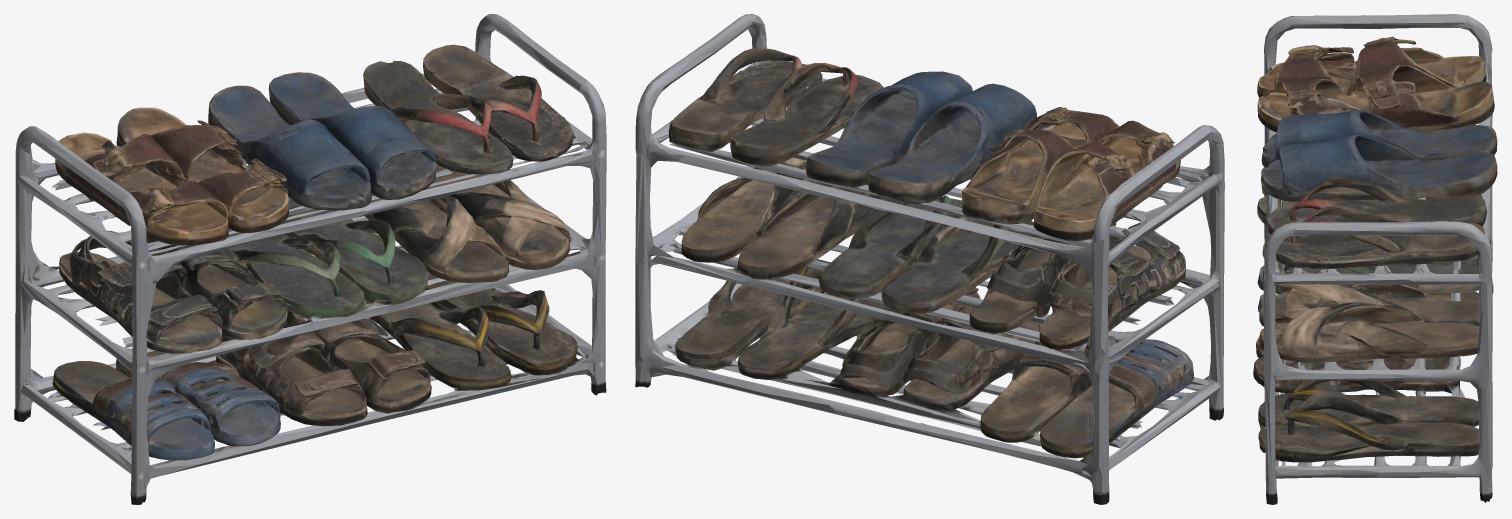
Rendered from w4shoerack.glb.
3 views of the same model, side by side, from view 1: azimuth 30°, elevation 25°; view 2: azimuth 150°, elevation 25°; view 3: azimuth 270°, elevation 25° (orthographic). The views are drawn at different scales.
Visible parts, largest first — view 1: output_unwrapped; view 2: output_unwrapped; view 3: output_unwrapped.
Part boxes in pixels (x1,y1,x2,y2): output_unwrapped: [14, 14, 606, 504]; output_unwrapped: [635, 14, 1224, 504]; output_unwrapped: [1253, 14, 1497, 504].
Size of the model in its own units: 0.8 by 0.4883 by 0.3856.
Materials: 1 (1 with a texture image).
